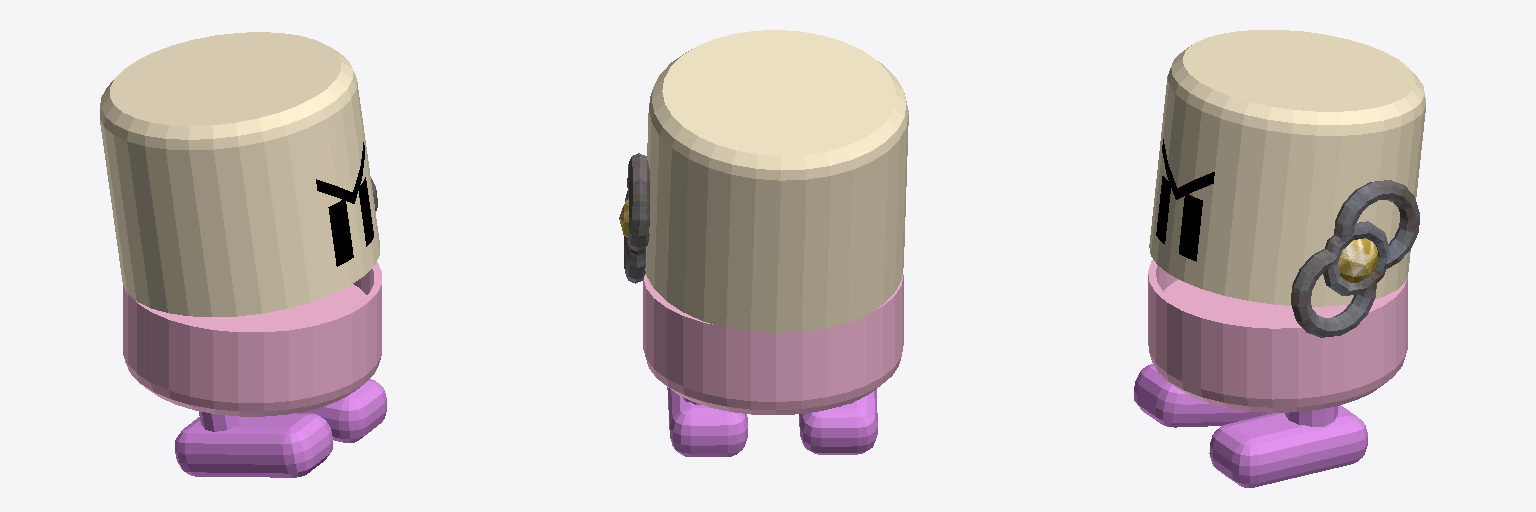
3 renders of one model, left to right at view 1: azimuth 30°, elevation 25°; view 2: azimuth 150°, elevation 25°; view 3: azimuth 270°, elevation 25°, orthographic.
Parts seen in each view (by area): view 1: Head, Jaw, RightLeg, LeftLeg; view 2: Head, Jaw, LeftLeg, RightLeg, WindupKey; view 3: Head, Jaw, WindupKey, LeftLeg, RightLeg.
Boxes of the visible parts, x1=… form: Head: x1=100, y1=32, x2=379, y2=316; Jaw: x1=123, y1=262, x2=381, y2=416; RightLeg: x1=175, y1=411, x2=332, y2=477; LeftLeg: x1=299, y1=379, x2=386, y2=442; Head: x1=645, y1=30, x2=908, y2=332; Jaw: x1=643, y1=274, x2=903, y2=414; LeftLeg: x1=667, y1=387, x2=747, y2=456; RightLeg: x1=799, y1=389, x2=877, y2=454; WindupKey: x1=619, y1=153, x2=649, y2=283; Head: x1=1149, y1=30, x2=1425, y2=306; Jaw: x1=1148, y1=260, x2=1407, y2=412; WindupKey: x1=1291, y1=180, x2=1419, y2=337; LeftLeg: x1=1209, y1=405, x2=1367, y2=487; RightLeg: x1=1134, y1=364, x2=1271, y2=427.
Bounding box in the file's own units: 117 × 160 × 112.
Materials: 6 (2 with a texture image).